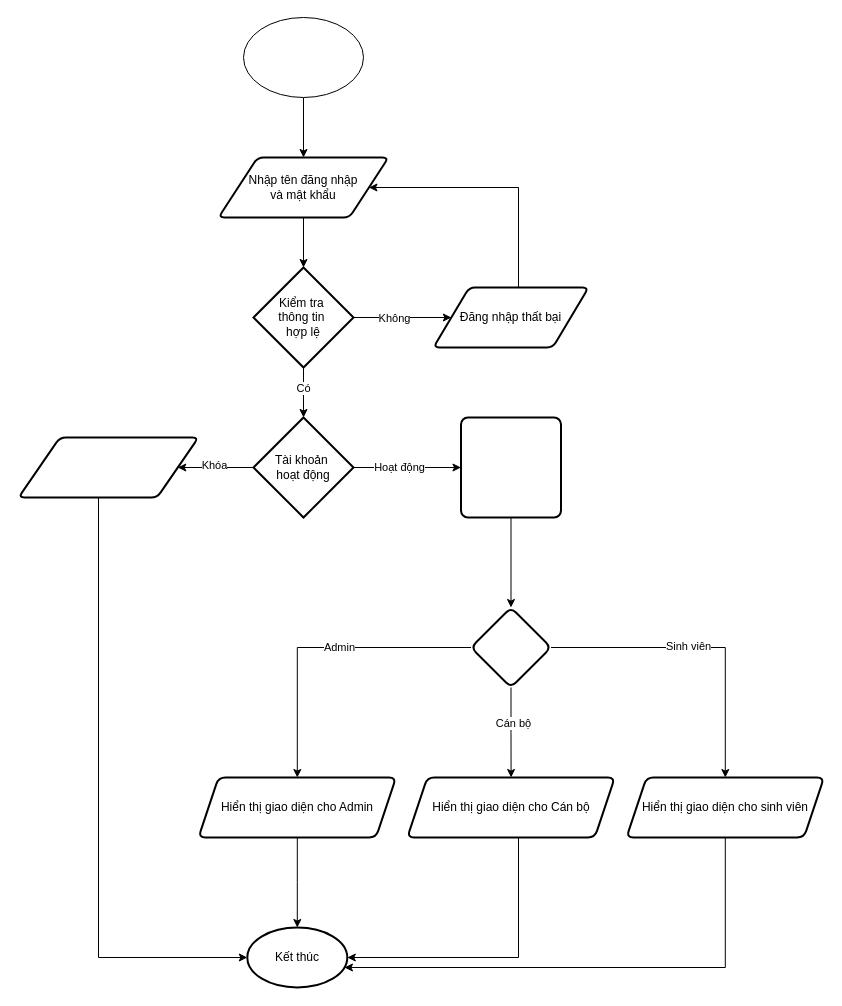
Image size: 842x1006. Some labels were removed from this diagram. Each missing label, with the centre of its shape:
Bắt đầu: point (303, 57)
Kiểm tra vai trò: point (511, 467)
Thông báo bị khóa: point (108, 467)
Vai trò?: point (511, 647)
